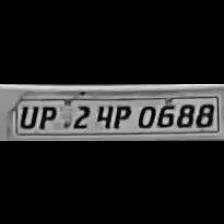0: (134, 102, 154, 128)
2: (66, 101, 92, 129)
4: (93, 101, 113, 129)
6: (154, 100, 174, 127)
8: (174, 100, 194, 128), (194, 100, 214, 128)
P: (35, 101, 57, 128), (111, 101, 131, 128)
U: (15, 100, 37, 130)
